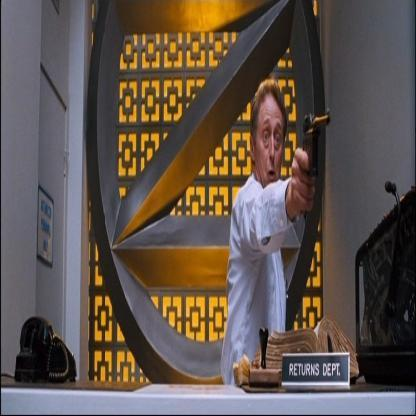gun: (300, 90, 337, 175)
